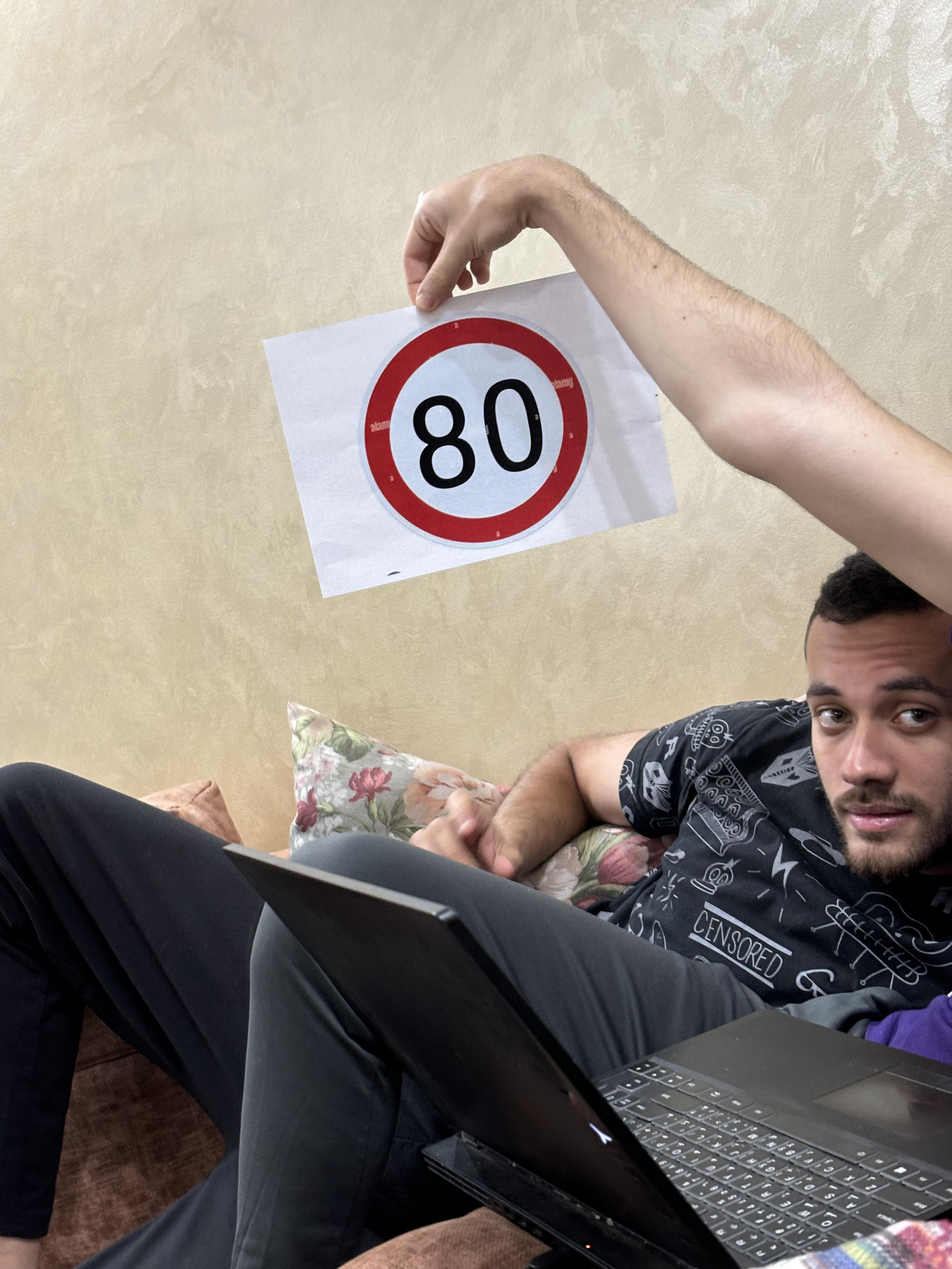80-Speed: (360, 306, 596, 543)
